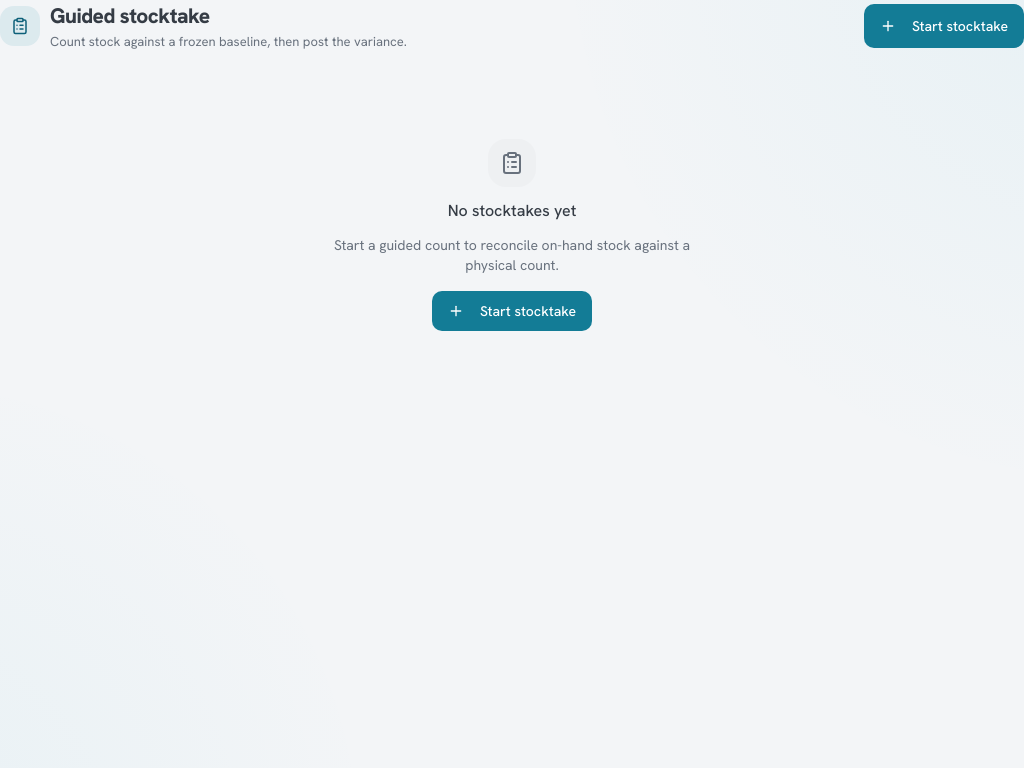
Test: GuidedStocktake form input labelling a11y (ISSUE-226) › names each start-stocktake form control from its visible caption
This screenshot has width=1024, height=768.
What coordinates should you click on to do the following:
click the button "Start stocktake" in the row of "Guided stocktake"
I would click on:
 (944, 26)
Its box is [864,4,1023,48].
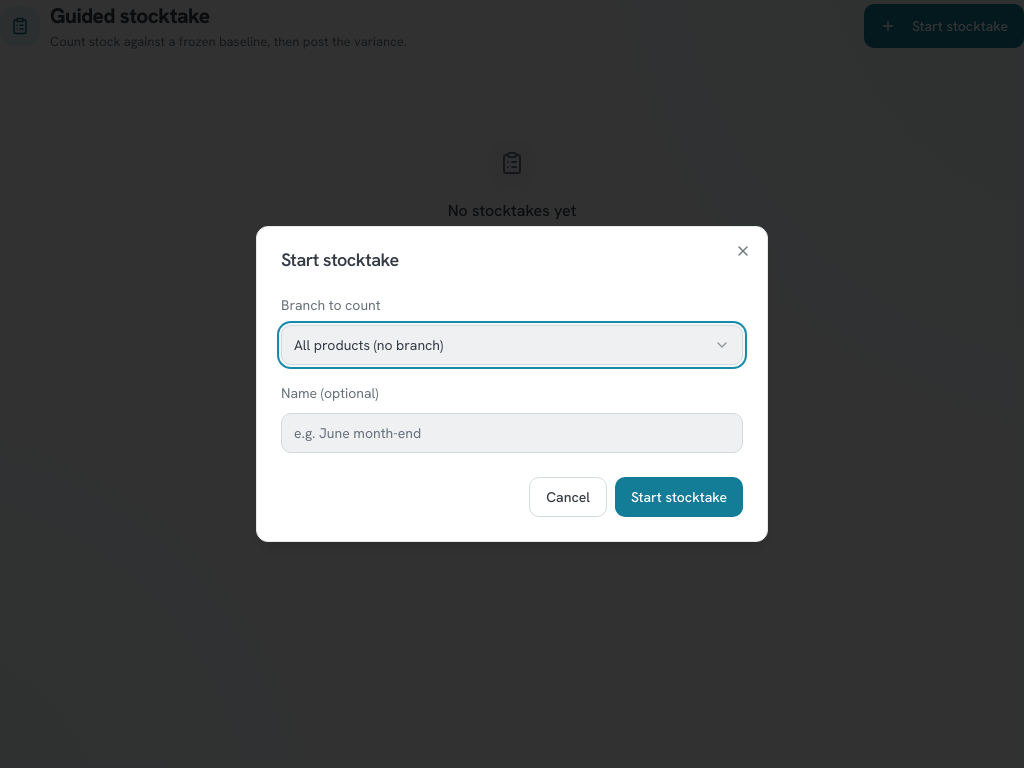
expect the dropdown named "Branch to count" is shown: met, box [281,325,743,365]
expect the field labelled "Name (optional)" is shown: met, box [281,413,743,453]
